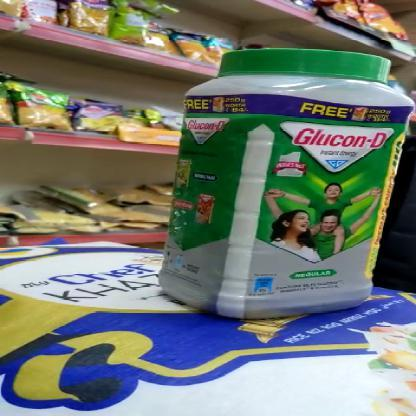Glucon D Regular 2-KG: (159, 49, 416, 314)
